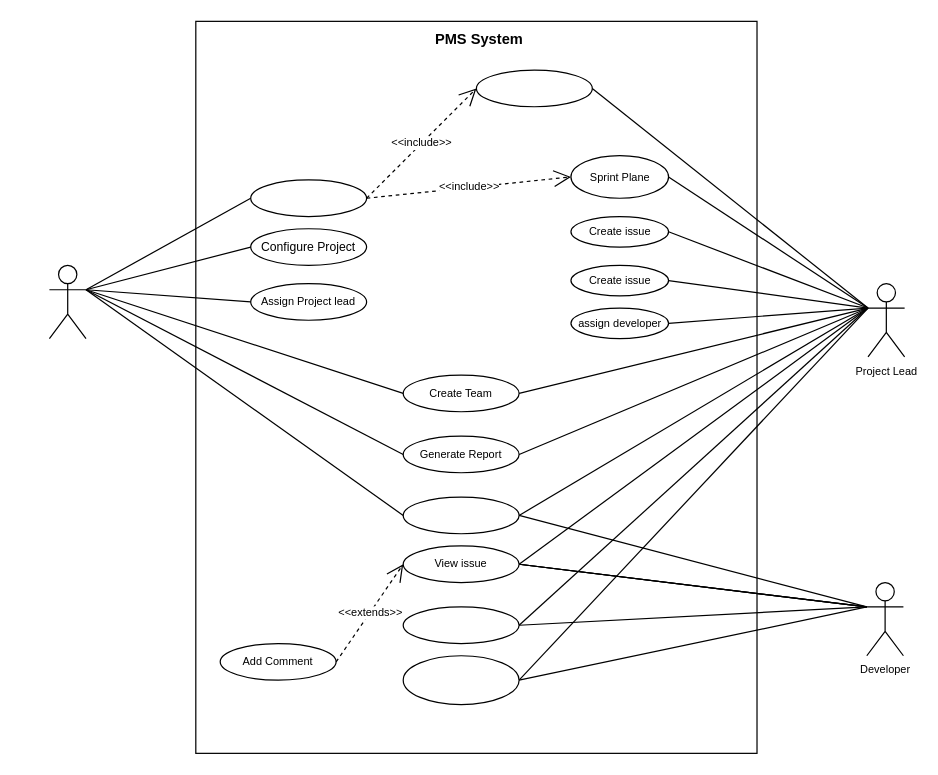
Some shapes in this 938 by 775 pixel diagram are drawn without their labels. Each missing label, with the centre of its shape:
Change statues of issue: the point at 460,680
Create board: the point at 533,88
Create project: the point at 308,198
Filter issue: the point at 460,625
Project Owner: the point at 67,301
View Notification: the point at 460,515
